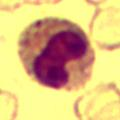monocyte: (16, 14, 99, 91), (16, 14, 87, 92)
